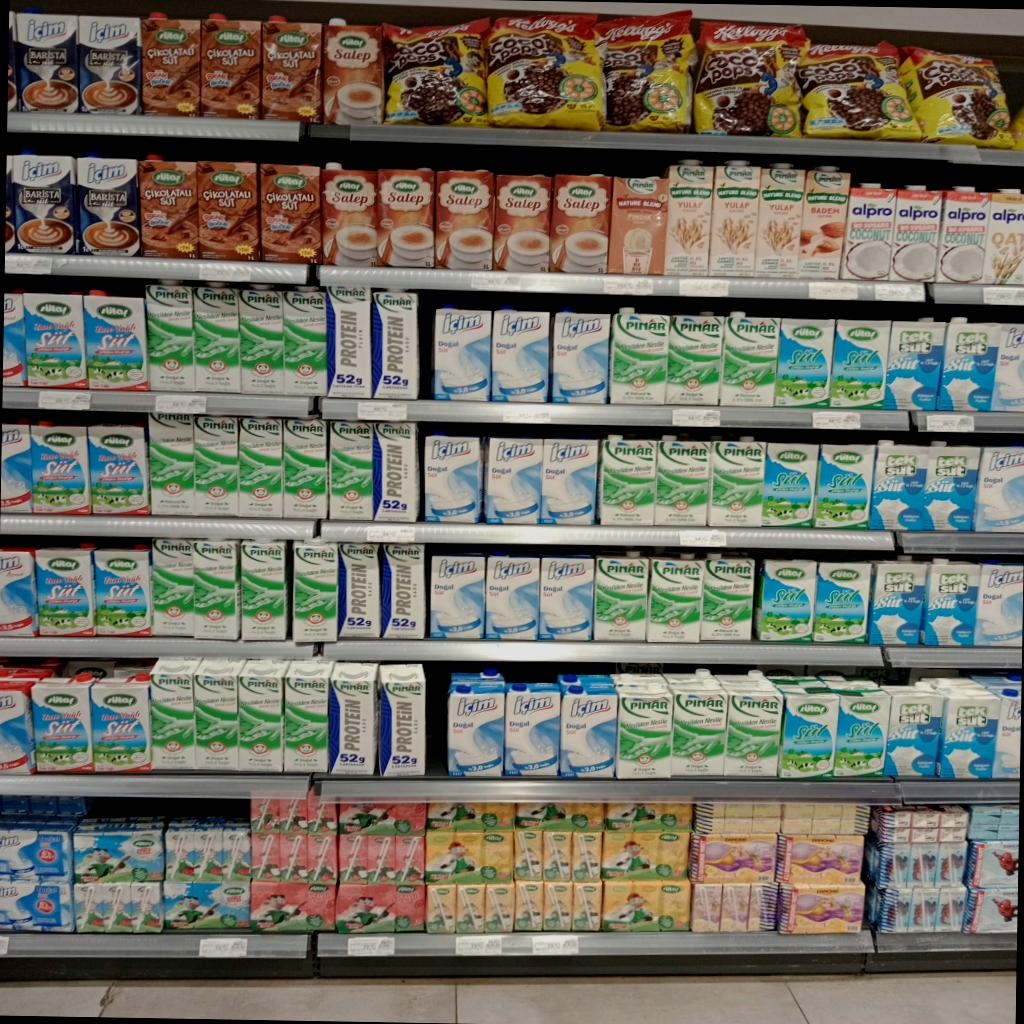price_tag: (964, 888, 1017, 934), (873, 281, 925, 302), (200, 262, 251, 282), (155, 394, 206, 414), (38, 391, 90, 410), (5, 254, 52, 275), (200, 937, 247, 958), (679, 278, 730, 297), (603, 276, 654, 295), (347, 936, 395, 956), (359, 401, 407, 421), (672, 407, 720, 427), (808, 281, 858, 300), (533, 934, 578, 955), (812, 410, 861, 429), (456, 935, 502, 955), (470, 273, 521, 291), (503, 404, 550, 423), (926, 414, 974, 432), (679, 529, 726, 547), (366, 526, 415, 543), (983, 287, 1023, 305), (614, 662, 664, 674), (0, 936, 8, 956)
product: (12, 149, 79, 254), (16, 8, 79, 112), (321, 19, 383, 124), (76, 153, 139, 255), (83, 292, 148, 390), (197, 161, 260, 260), (24, 292, 88, 389), (550, 173, 612, 273), (78, 15, 141, 113), (448, 668, 505, 776), (262, 18, 321, 122), (140, 15, 200, 117), (200, 16, 260, 118), (666, 674, 726, 776), (259, 163, 320, 263), (708, 161, 761, 276), (138, 157, 198, 258), (560, 673, 618, 777), (434, 170, 494, 269), (90, 674, 150, 772), (663, 159, 713, 276), (74, 817, 164, 882), (938, 317, 1000, 411), (799, 166, 850, 279), (377, 168, 435, 267), (32, 678, 93, 772), (609, 177, 668, 274), (321, 162, 376, 266), (550, 308, 610, 403), (609, 308, 669, 403), (936, 689, 1000, 778), (884, 317, 945, 410), (615, 675, 670, 778), (166, 816, 250, 883), (491, 305, 549, 402), (194, 658, 244, 770), (87, 424, 149, 514), (720, 312, 779, 406), (238, 659, 287, 772), (756, 163, 804, 277), (433, 304, 490, 400), (150, 658, 199, 769), (328, 664, 377, 775), (774, 319, 835, 408), (829, 320, 890, 409), (494, 175, 551, 270), (144, 284, 195, 390), (31, 422, 90, 513), (778, 687, 837, 778), (423, 433, 483, 522), (283, 661, 331, 772), (723, 686, 781, 777), (813, 443, 875, 528), (35, 548, 94, 637), (753, 559, 817, 641), (192, 285, 241, 392), (884, 686, 942, 776), (93, 548, 152, 636), (841, 185, 895, 281), (505, 682, 560, 776), (378, 664, 424, 776), (921, 443, 980, 530), (325, 286, 371, 397), (935, 187, 988, 283), (870, 440, 927, 529), (0, 815, 78, 880), (599, 435, 655, 525), (668, 313, 722, 406), (709, 436, 764, 527), (147, 413, 196, 515), (865, 839, 967, 888), (868, 559, 926, 645), (833, 689, 889, 778), (238, 285, 284, 393), (280, 287, 326, 395), (372, 291, 418, 399), (922, 558, 979, 645), (889, 186, 941, 281), (485, 437, 542, 523), (429, 550, 484, 639), (646, 555, 702, 642), (595, 551, 649, 641), (371, 422, 420, 521), (654, 436, 708, 525), (240, 540, 288, 640), (540, 439, 597, 523), (813, 561, 871, 643), (762, 442, 817, 527), (485, 551, 538, 639), (425, 830, 513, 883), (194, 415, 240, 516), (539, 554, 593, 640), (601, 880, 690, 932), (513, 829, 600, 882), (193, 539, 239, 639), (291, 540, 337, 640), (251, 832, 336, 886), (74, 882, 163, 933), (425, 883, 514, 934), (689, 832, 776, 884), (338, 834, 424, 886), (776, 834, 862, 886), (866, 886, 963, 932), (514, 881, 601, 932), (700, 555, 752, 640), (250, 880, 334, 932), (238, 418, 282, 517), (283, 419, 327, 518), (974, 444, 1024, 531), (602, 830, 689, 880), (163, 880, 249, 930), (777, 883, 863, 933), (690, 883, 777, 932), (973, 561, 1023, 646), (980, 190, 1024, 286), (329, 421, 372, 519), (381, 543, 424, 639), (152, 538, 193, 636), (338, 543, 380, 638), (0, 878, 74, 931), (987, 678, 1021, 778), (0, 677, 35, 774), (337, 799, 426, 835), (0, 549, 37, 635), (335, 883, 395, 932), (991, 323, 1024, 411), (0, 421, 31, 512), (964, 838, 1018, 889), (604, 800, 691, 831), (427, 800, 513, 831), (515, 801, 601, 828), (2, 292, 26, 386), (683, 583, 687, 585)
